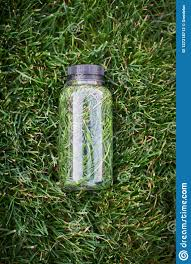plastic_bottle: (55, 61, 115, 194)
